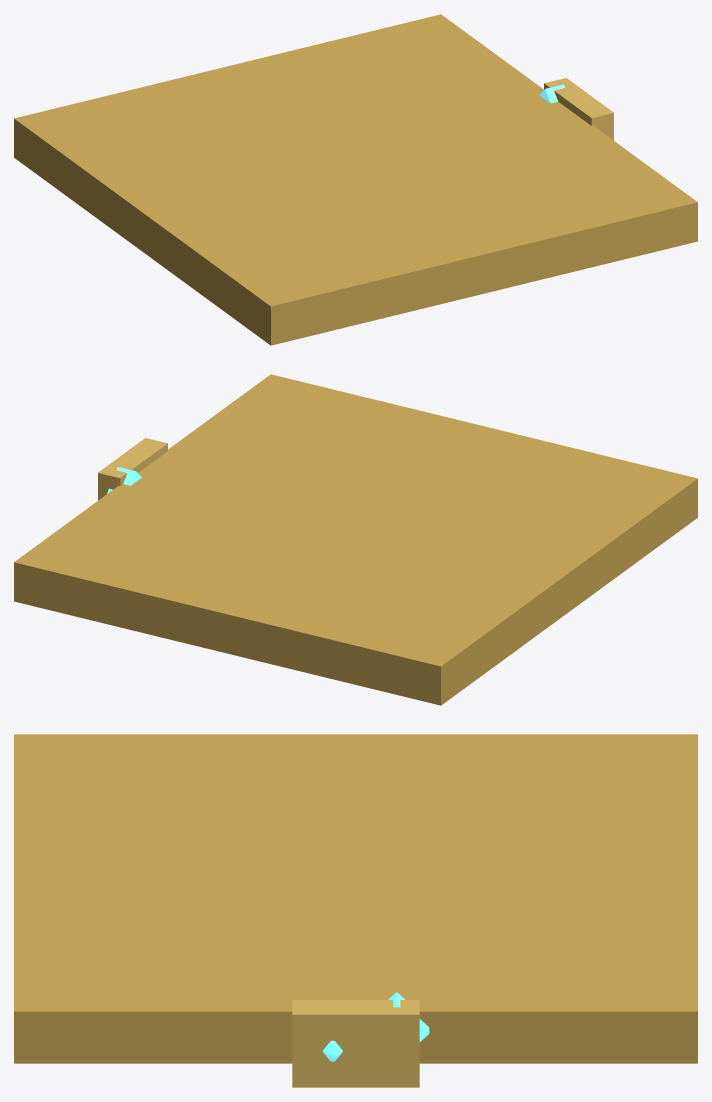
3 views of the same model, one above another, from view 1: azimuth 30°, elevation 25°; view 2: azimuth 150°, elevation 25°; view 3: azimuth 270°, elevation 25° (orthographic). The views are drawn at different scales.
Parts seen in each view (by area): view 1: wind-ring; view 2: wind-ring; view 3: wind-ring.
Part boxes in pixels (x1,y1,x2,y2): wind-ring: (14,14,697,345); wind-ring: (14,374,697,705); wind-ring: (14,734,697,1087).
Size of the model in its own units: 0.3093 by 0.0378 by 0.306.
